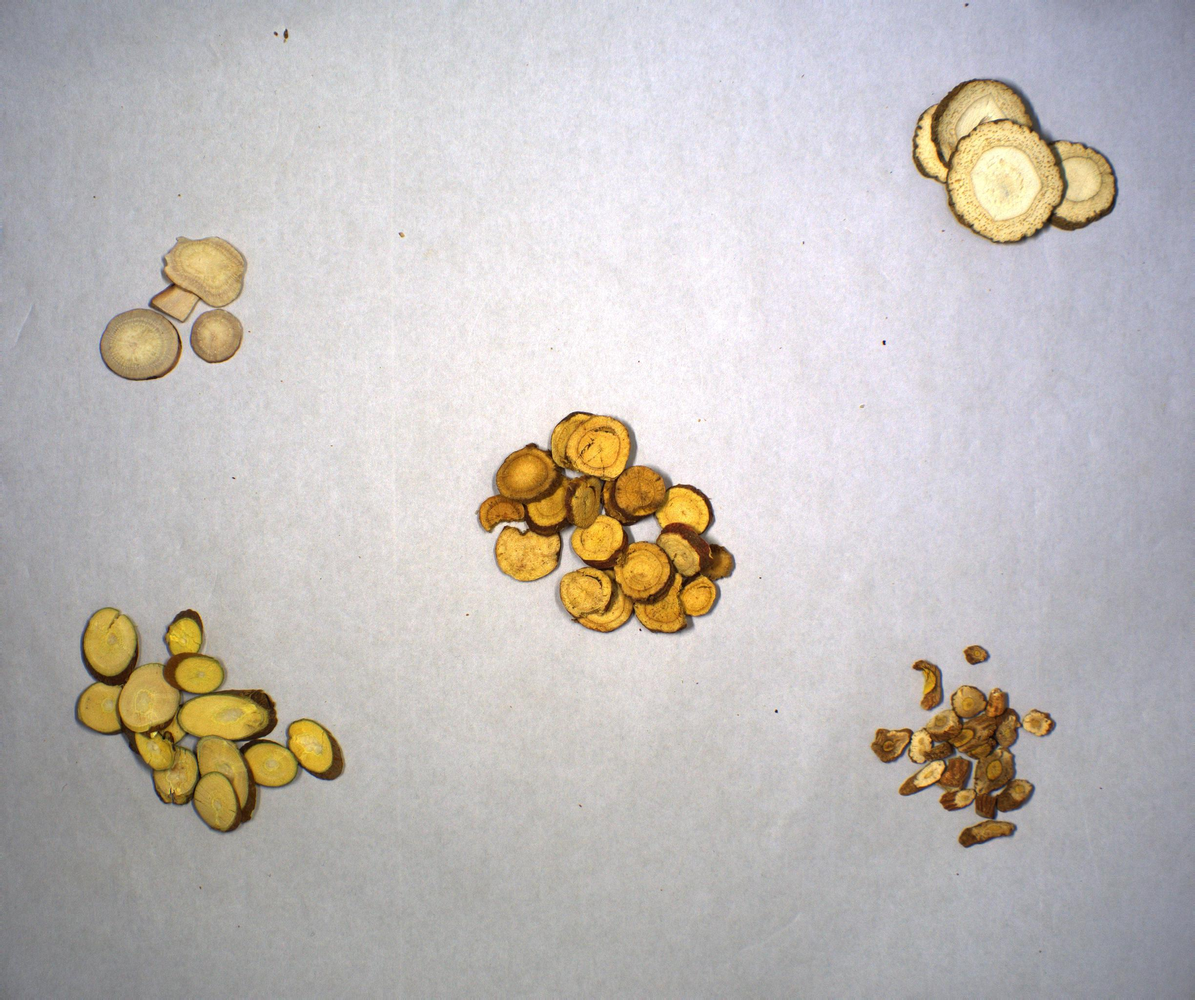baishao: (100, 232, 247, 382)
baizhi: (913, 78, 1119, 246)
banlangen: (868, 643, 1062, 849)
gancaopian: (478, 410, 739, 639)
sangzhi: (76, 607, 345, 836)
